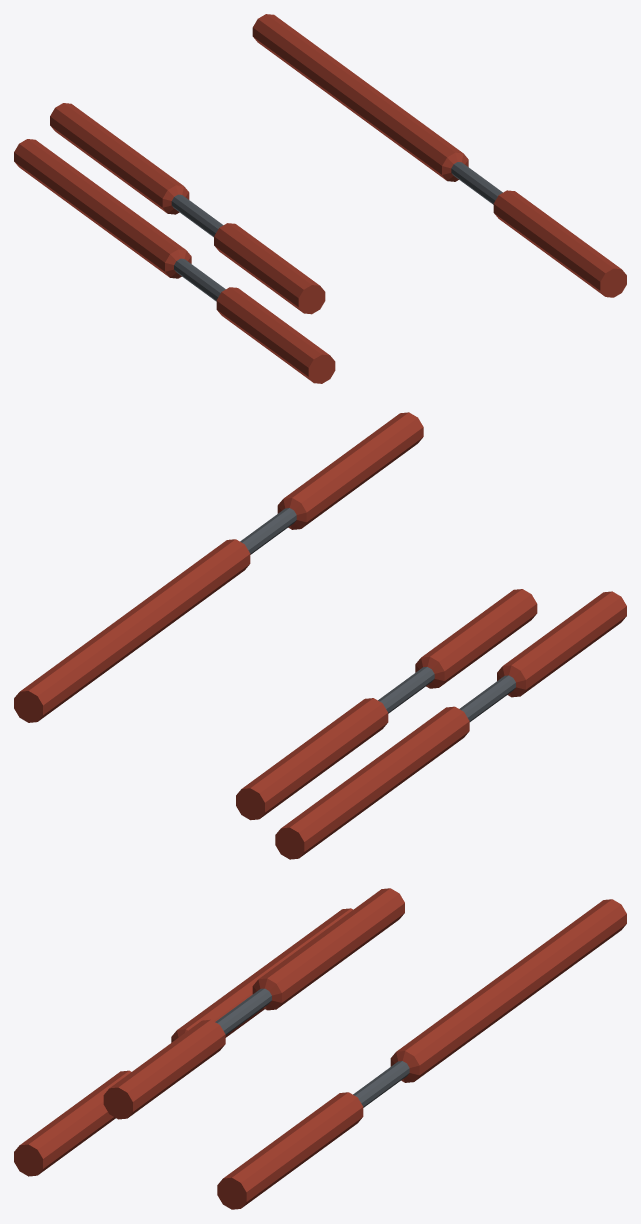
The model's file is Mothership_01_Antenna_Red.fbx.
The picture shows the model from 3 angles, top to bottom: view 1: azimuth 30°, elevation 25°; view 2: azimuth 150°, elevation 25°; view 3: azimuth 330°, elevation 25°; orthographic projection. The views are drawn at different scales.
Parts seen in each view (by area): view 1: Mothership_01_Antenna_Red; view 2: Mothership_01_Antenna_Red; view 3: Mothership_01_Antenna_Red.
Boxes of the visible parts, x1,y1,x2,y2 form: Mothership_01_Antenna_Red: (14,14,626,383); Mothership_01_Antenna_Red: (14,412,626,859); Mothership_01_Antenna_Red: (14,888,626,1209).
Bounding box in the file's own units: 649 × 224 × 1473.
Materials: 1 (1 with a texture image).
